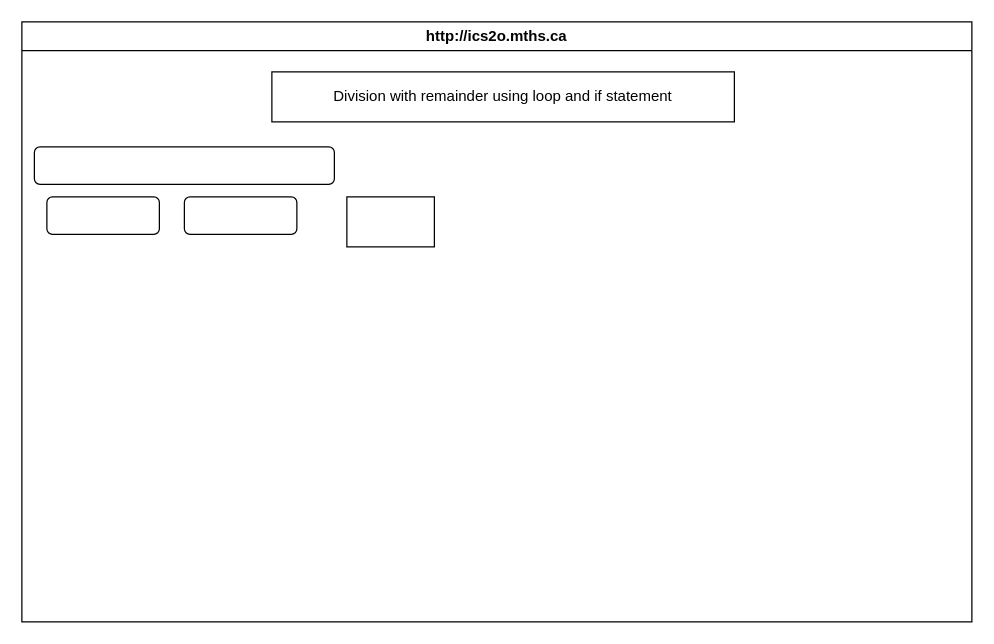
The diagram is 994 pixels wide and 644 high, and some of its shapes have lost their labels. Each missing label, with the box of its shape:
DIVIDE: (346, 196, 434, 247)
Enter two positive integers to divide:: (33, 146, 334, 184)
